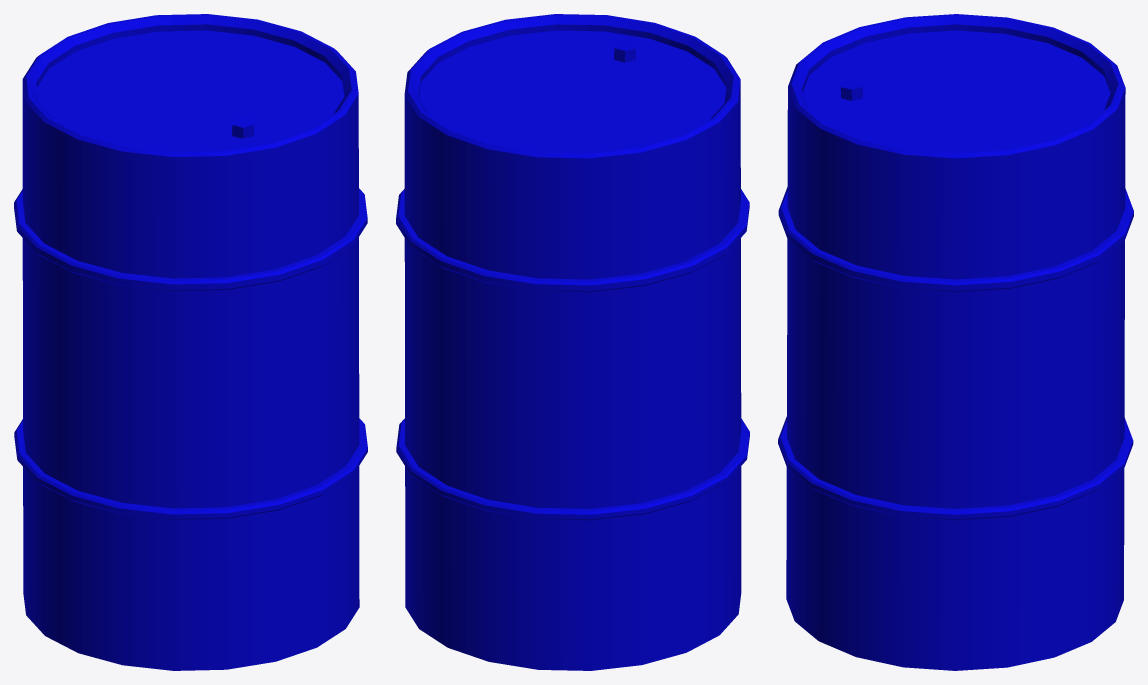
File: tntBarrel.fbx
3 views of the same model, side by side, from view 1: azimuth 30°, elevation 25°; view 2: azimuth 150°, elevation 25°; view 3: azimuth 270°, elevation 25° (orthographic).
Parts seen in each view (by area): view 1: tntBarrel:polySurface1; view 2: tntBarrel:polySurface1; view 3: tntBarrel:polySurface1.
Boxes of the visible parts, x1,y1,x2,y2 form: tntBarrel:polySurface1: [14, 14, 367, 670]; tntBarrel:polySurface1: [396, 14, 749, 670]; tntBarrel:polySurface1: [778, 14, 1133, 670].
Size of the model in its own units: 2.1 by 3.38 by 2.11.
